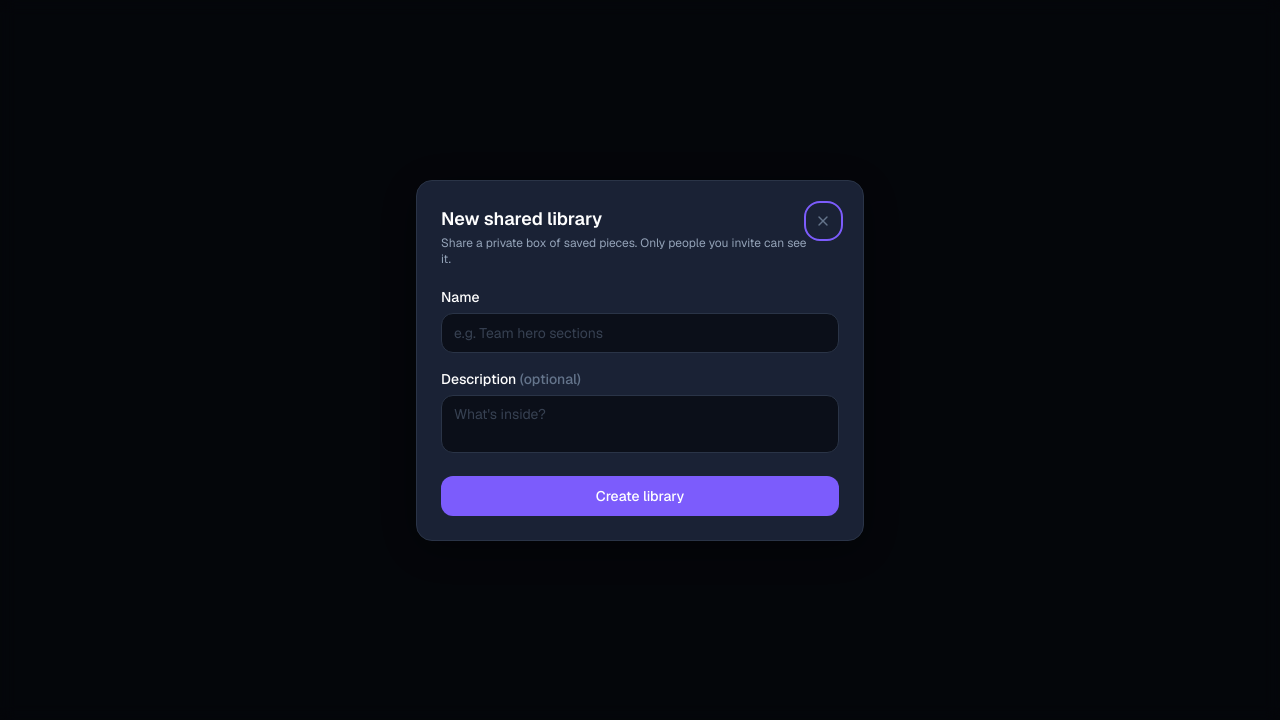
Test: CreateSharedLibraryDialog › requires a name before creating
This screenshot has width=1280, height=720.
Click the button "Create library".
click(640, 496)  # box [441,476,839,516]
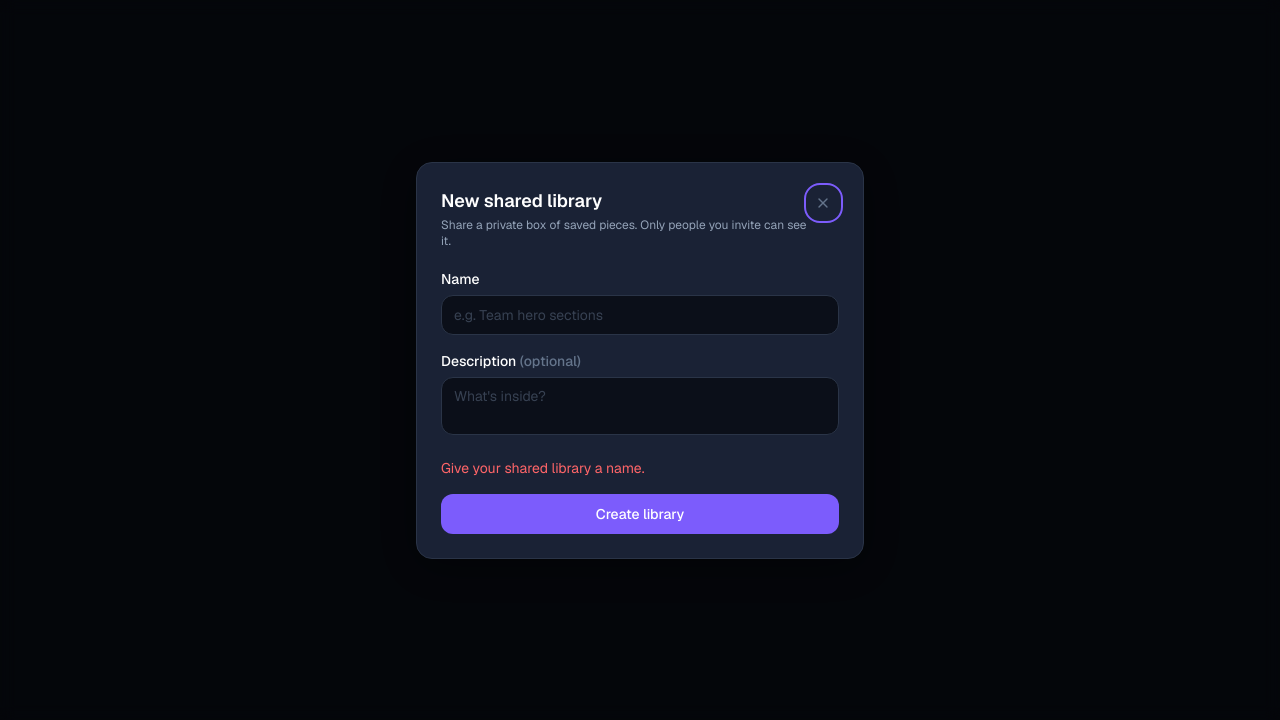
Result: the text "Give your shared library a name." is shown at [441,458,644,476]
